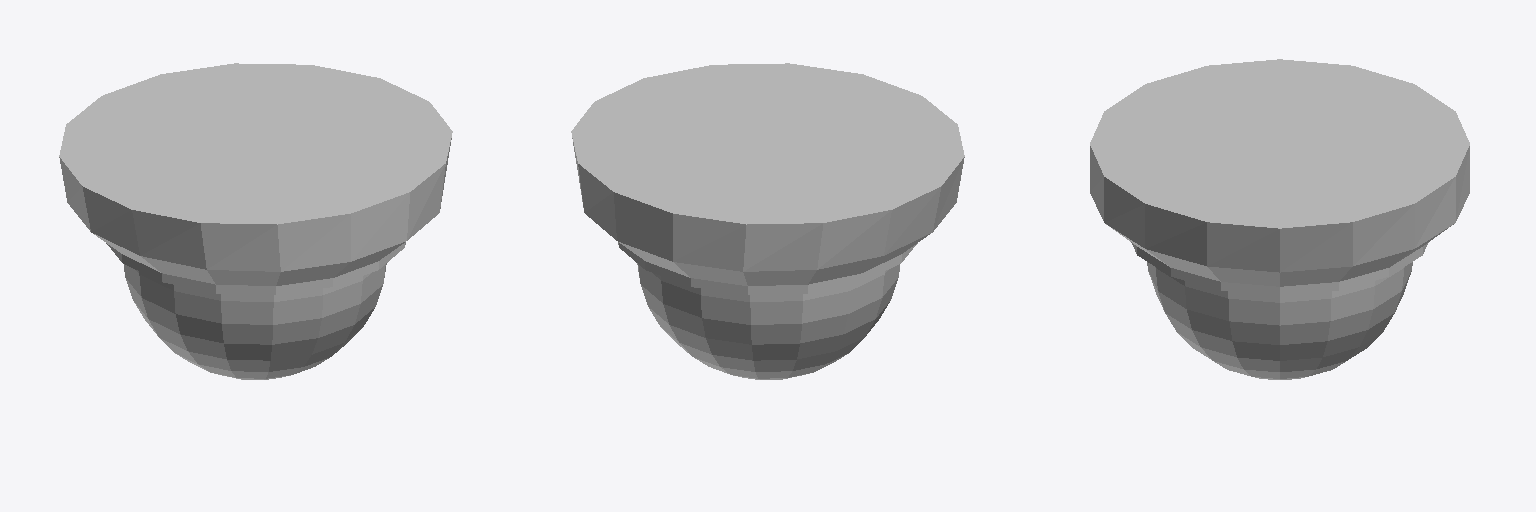
File: cameraType01.obj
The picture shows the model from 3 angles: view 1: azimuth 30°, elevation 25°; view 2: azimuth 150°, elevation 25°; view 3: azimuth 270°, elevation 25°; orthographic projection.
Parts seen in each view (by area): view 1: Cube.002_Cube.003; view 2: Cube.002_Cube.003; view 3: Cube.002_Cube.003.
Boxes of the visible parts, <box> form: Cube.002_Cube.003: <box>59,63,452,379</box>; Cube.002_Cube.003: <box>571,63,964,379</box>; Cube.002_Cube.003: <box>1090,59,1469,379</box>.
Bounding box in the file's own units: 0.4828 × 0.2977 × 0.4582.